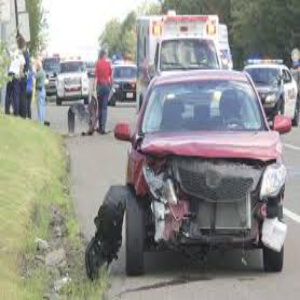bumper: (152, 195, 279, 260)
